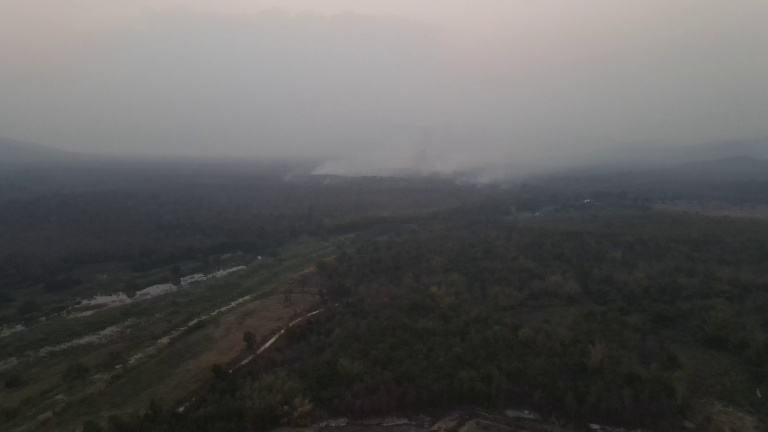smoke: (294, 125, 552, 191)
